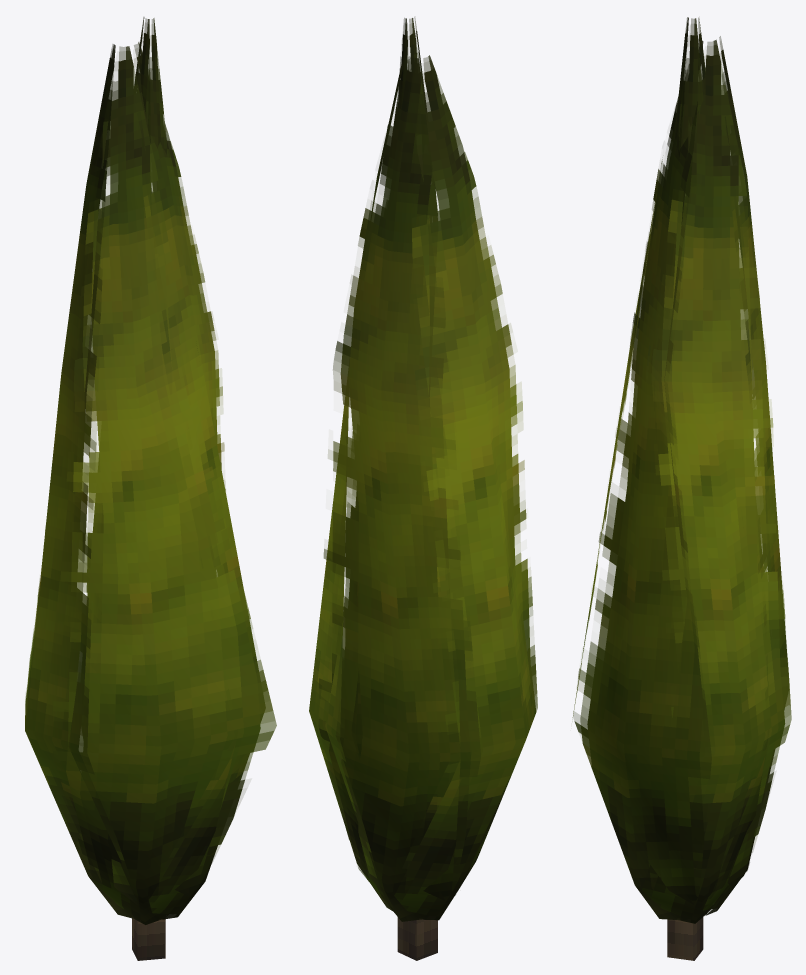
The model's file is cypress_00.glb.
3 renders of one model, left to right at view 1: azimuth 30°, elevation 25°; view 2: azimuth 150°, elevation 25°; view 3: azimuth 270°, elevation 25°, orthographic.
Visible parts, largest first — view 1: cypress_00; view 2: cypress_00; view 3: cypress_00.
Boxes of the visible parts, x1=… form: cypress_00: x1=25, y1=17, x2=276, y2=960; cypress_00: x1=309, y1=17, x2=537, y2=960; cypress_00: x1=572, y1=17, x2=791, y2=960.
Size of the model in its own units: 1.44 by 5.98 by 1.28.
Materials: 2 (2 with a texture image).
